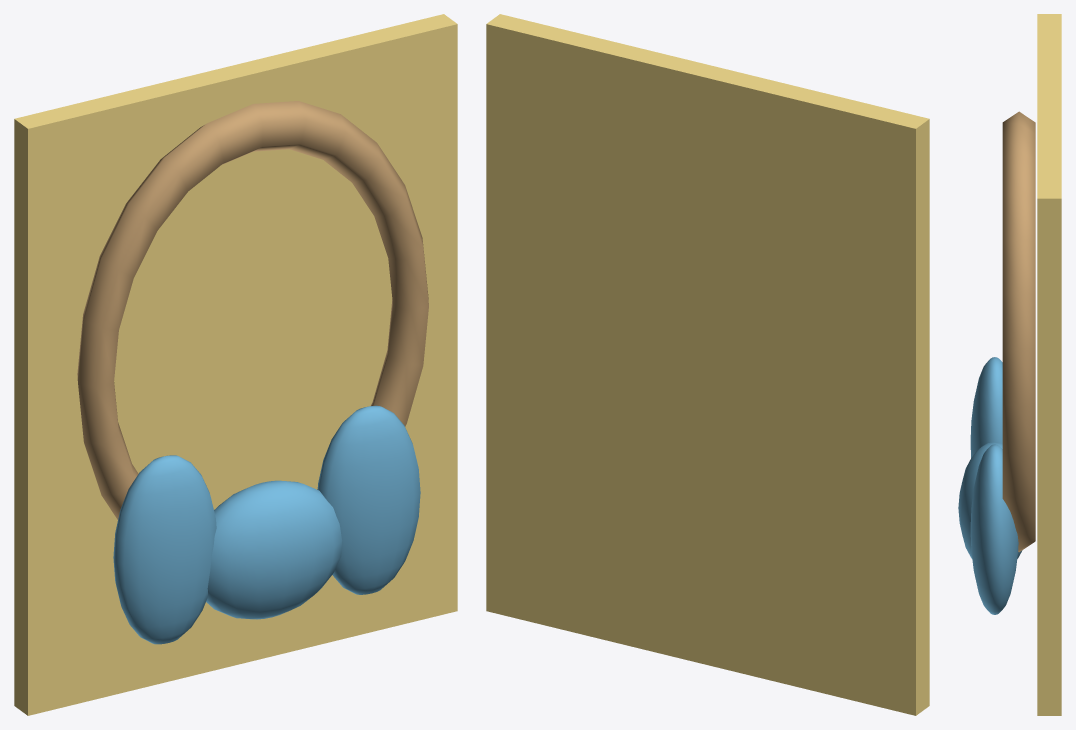
File: TRD-06-02.glb
3 renders of one model, left to right at view 1: azimuth 30°, elevation 25°; view 2: azimuth 150°, elevation 25°; view 3: azimuth 270°, elevation 25°, orthographic. The views are drawn at different scales.
Parts seen in each view (by area): view 1: TRD-06-02; view 2: TRD-06-02; view 3: TRD-06-02.
Part boxes in pixels (box(x1,y1,x2,y2)): TRD-06-02: box(14, 14, 457, 715); TRD-06-02: box(486, 14, 929, 715); TRD-06-02: box(958, 14, 1061, 715).
Size of the model in its own units: 0.72 by 0.94 by 0.17.
